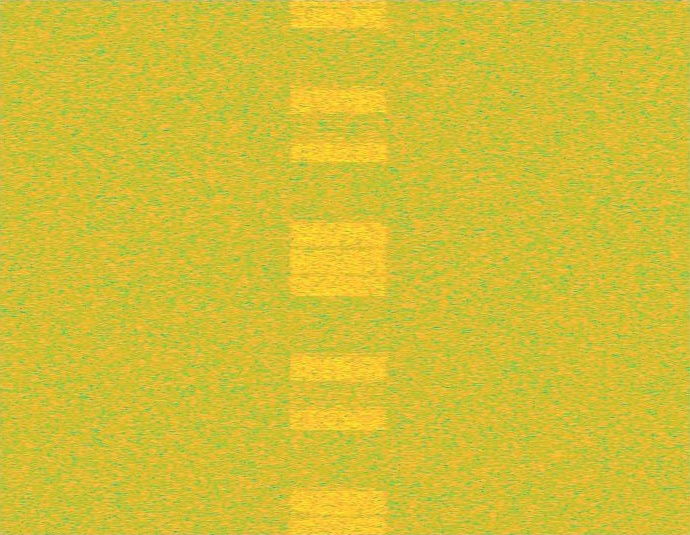LTE: (287, 0, 391, 534)
Radar: (300, 0, 314, 534)
